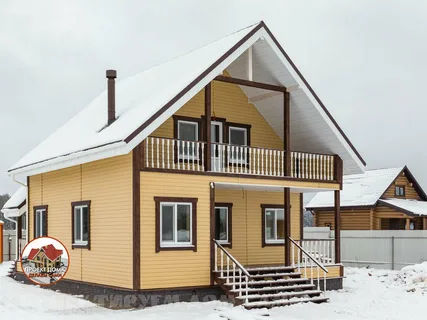private_hause: (33, 28, 328, 287)
